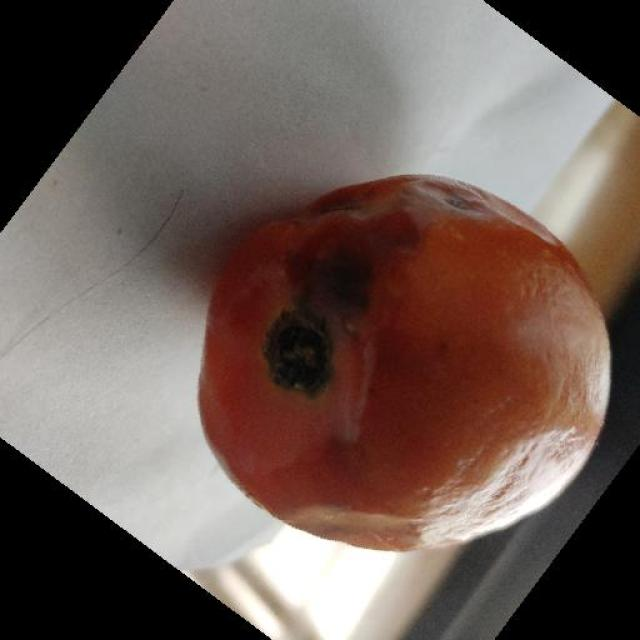Stale_tomato: (214, 195, 600, 527)
